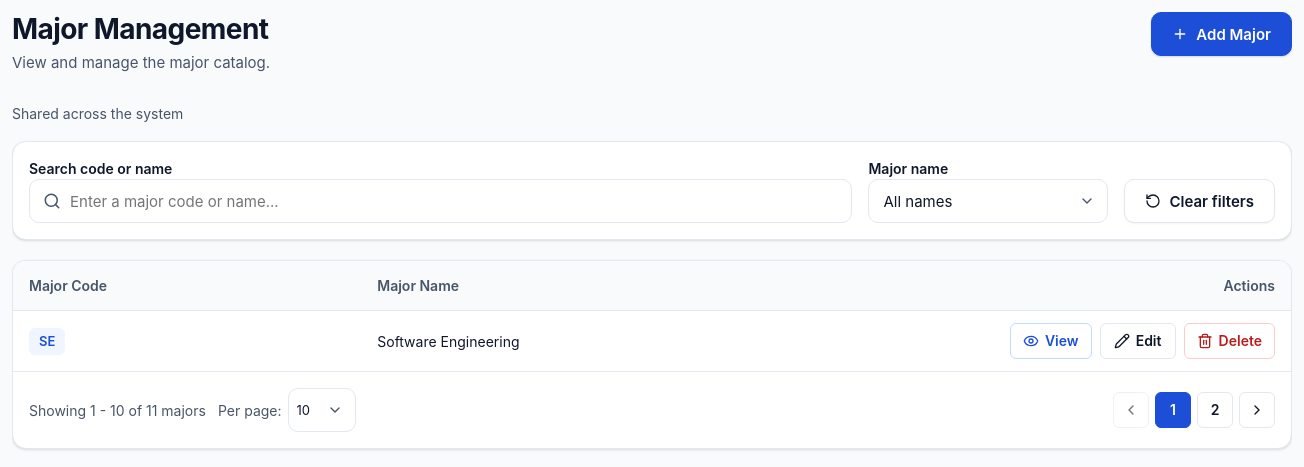
Test: Major management › combines search and name filters, resets pagination and clears them
Click the button named "Next page": (1257, 410) [1239, 392, 1275, 428]
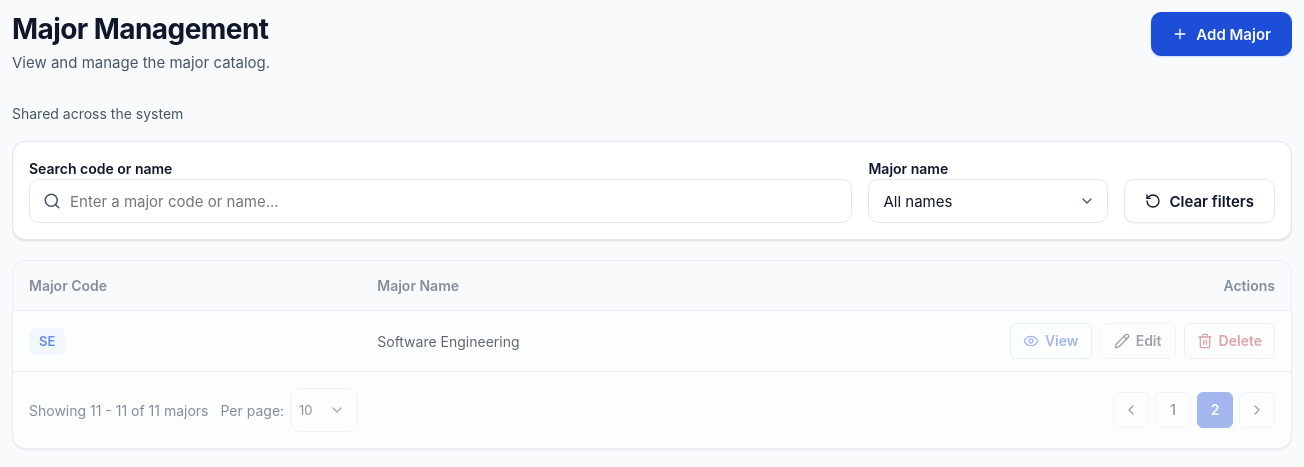
In the field labelled "Search code or name": (441, 201) [29, 179, 852, 223], type " SE "
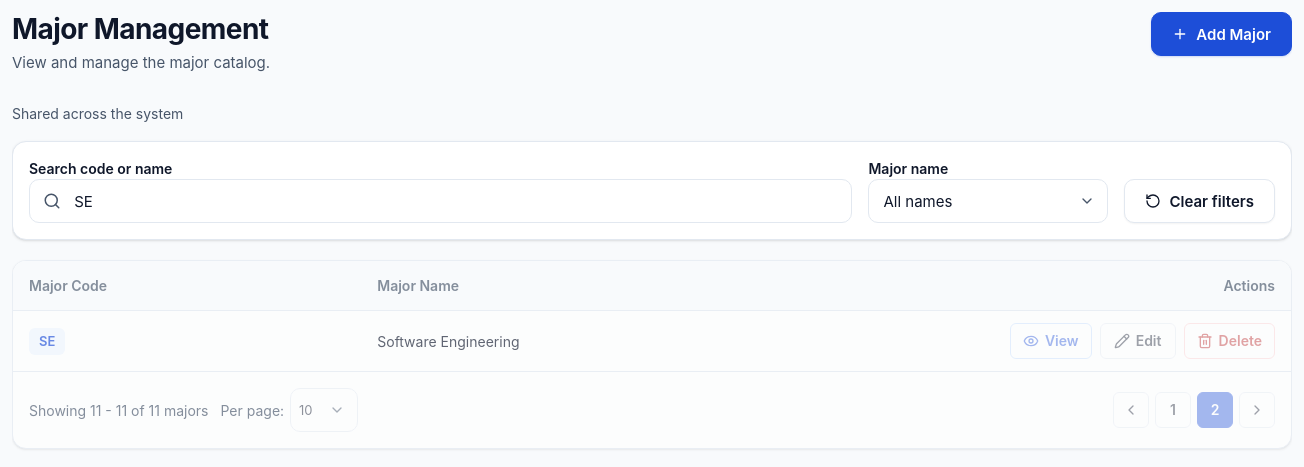
Select "Temporary name (same as code)" in the dropdown labelled "Major name": (988, 201) [868, 179, 1108, 223]
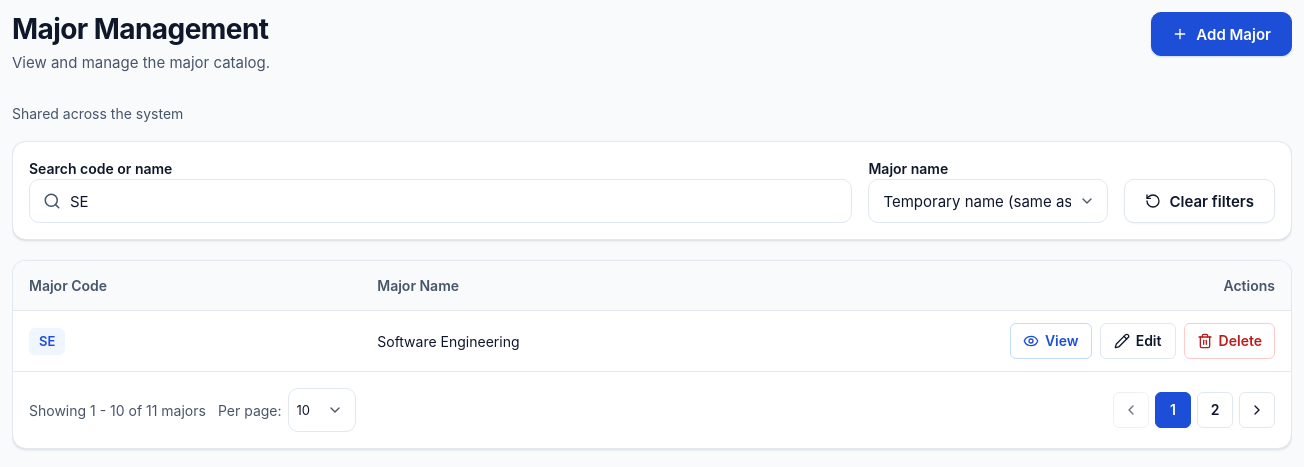
Select "Name differs from code" in the dropdown labelled "Major name": (988, 201) [868, 179, 1108, 223]
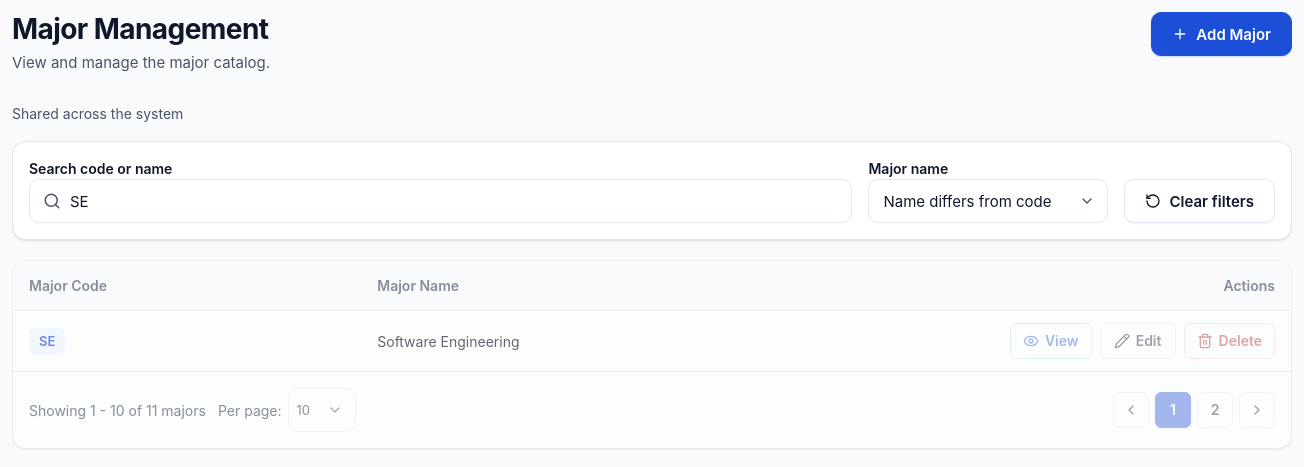
Click the button "Clear filters": (1200, 201) [1124, 179, 1275, 223]
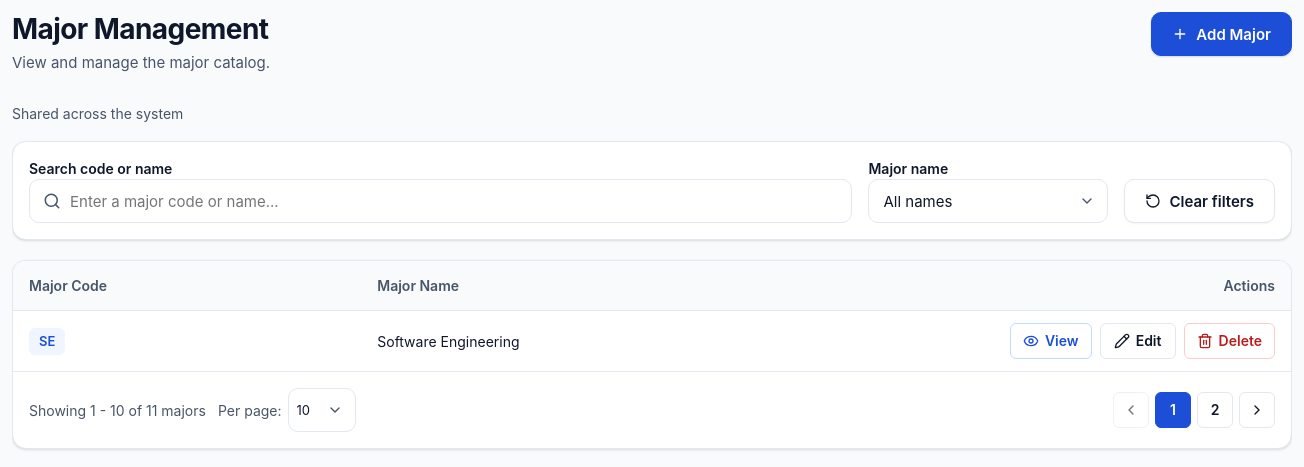
Now the field labelled "Search code or name" is empty, box [29, 179, 852, 223]
